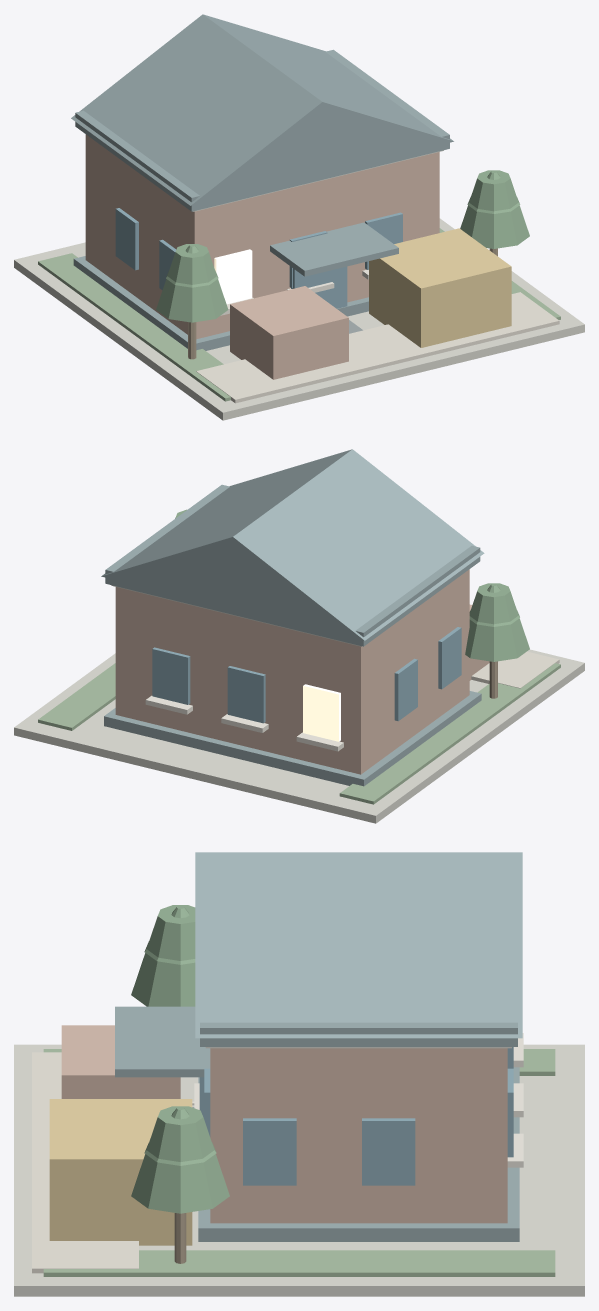
The model's file is remaster_industry_furniture_0.glb.
The picture shows the model from 3 angles, top to bottom: view 1: azimuth 30°, elevation 25°; view 2: azimuth 150°, elevation 25°; view 3: azimuth 270°, elevation 25°; orthographic projection. The views are drawn at different scales.
Visible parts, largest first — view 1: remaster_industry_furniture_0 roof, remaster_industry_furniture_0 brick, remaster_industry_furniture_0 gold, remaster_industry_furniture_0 stone, remaster_industry_furniture_0 cream, remaster_industry_furniture_0 leaf, remaster_industry_furniture_0 green, remaster_industry_furniture_0 glass, remaster_industry_furniture_0 warm; view 2: remaster_industry_furniture_0 roof, remaster_industry_furniture_0 brick, remaster_industry_furniture_0 stone, remaster_industry_furniture_0 green, remaster_industry_furniture_0 glass, remaster_industry_furniture_0 leaf, remaster_industry_furniture_0 warm, remaster_industry_furniture_0 cream, remaster_industry_furniture_0 white; view 3: remaster_industry_furniture_0 roof, remaster_industry_furniture_0 brick, remaster_industry_furniture_0 stone, remaster_industry_furniture_0 gold, remaster_industry_furniture_0 green, remaster_industry_furniture_0 leaf, remaster_industry_furniture_0 glass, remaster_industry_furniture_0 cream, remaster_industry_furniture_0 white, remaster_industry_furniture_0 bark.
Part boxes in pixels (x1,y1,x2,y2): remaster_industry_furniture_0 roof: (71, 14, 453, 350); remaster_industry_furniture_0 brick: (85, 134, 439, 379); remaster_industry_furniture_0 gold: (369, 228, 511, 347); remaster_industry_furniture_0 stone: (14, 150, 584, 420); remaster_industry_furniture_0 cream: (196, 292, 559, 403); remaster_industry_furniture_0 leaf: (156, 170, 529, 322); remaster_industry_furniture_0 green: (38, 228, 560, 401); remaster_industry_furniture_0 glass: (115, 208, 402, 308); remaster_industry_furniture_0 warm: (214, 249, 252, 304); remaster_industry_furniture_0 roof: (101, 449, 484, 786); remaster_industry_furniture_0 brick: (115, 569, 489, 774); remaster_industry_furniture_0 stone: (14, 585, 584, 823); remaster_industry_furniture_0 green: (38, 663, 560, 804); remaster_industry_furniture_0 glass: (152, 627, 461, 723); remaster_industry_furniture_0 leaf: (175, 509, 529, 661); remaster_industry_furniture_0 warm: (303, 684, 340, 741); remaster_industry_furniture_0 cream: (471, 651, 559, 688); remaster_industry_furniture_0 white: (145, 695, 343, 751); remaster_industry_furniture_0 roof: (115, 852, 522, 1241); remaster_industry_furniture_0 brick: (61, 1025, 507, 1223); remaster_industry_furniture_0 stone: (14, 1044, 584, 1296); remaster_industry_furniture_0 gold: (49, 1099, 192, 1245); remaster_industry_furniture_0 green: (43, 1049, 555, 1276); remaster_industry_furniture_0 leaf: (131, 905, 229, 1213); remaster_industry_furniture_0 glass: (199, 1047, 513, 1185); remaster_industry_furniture_0 cream: (32, 1052, 138, 1273); remaster_industry_furniture_0 white: (192, 1033, 523, 1167); remaster_industry_furniture_0 bark: (174, 1213, 186, 1263).
Bounding box in the file's own units: 9.64 × 5.82 × 9.6.
